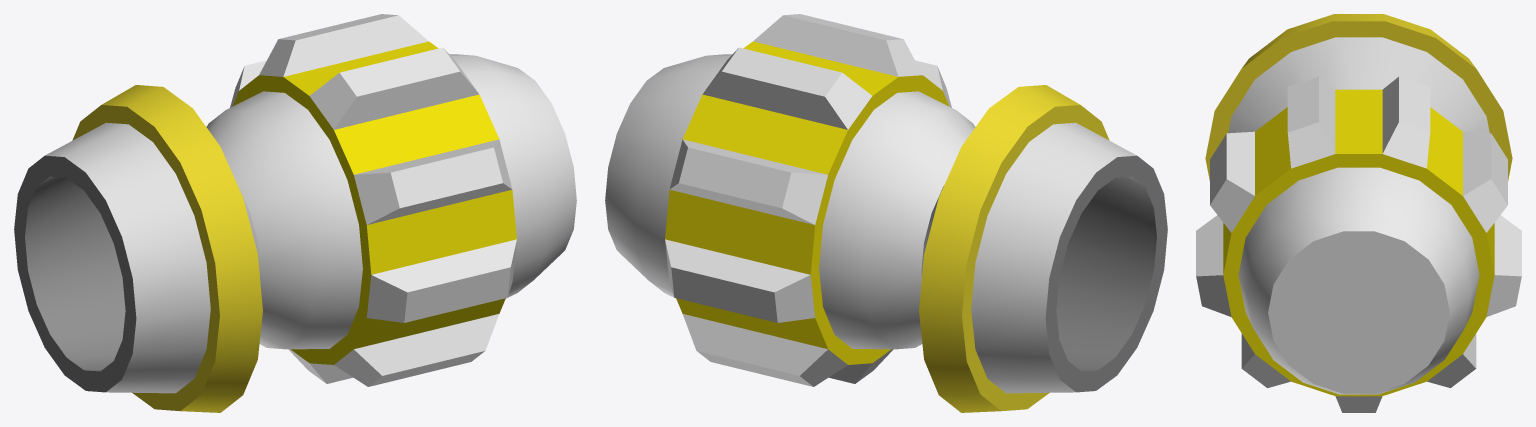
Rendered from rocket_3.fbx.
3 renders of one model, left to right at view 1: azimuth 30°, elevation 25°; view 2: azimuth 150°, elevation 25°; view 3: azimuth 270°, elevation 25°, orthographic. The views are drawn at different scales.
Parts seen in each view (by area): view 1: rocket_3; view 2: rocket_3; view 3: rocket_3.
Boxes of the visible parts, x1=… form: rocket_3: x1=14, y1=14, x2=576, y2=412; rocket_3: x1=605, y1=14, x2=1167, y2=412; rocket_3: x1=1196, y1=14, x2=1521, y2=412.
Bounding box in the file's own units: 137 × 93.02 × 94.45.
